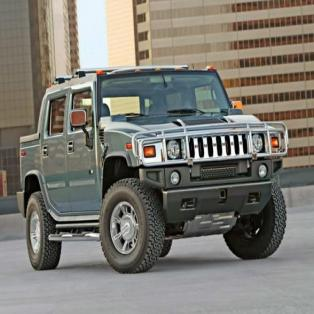Auto: (16, 64, 289, 274)
